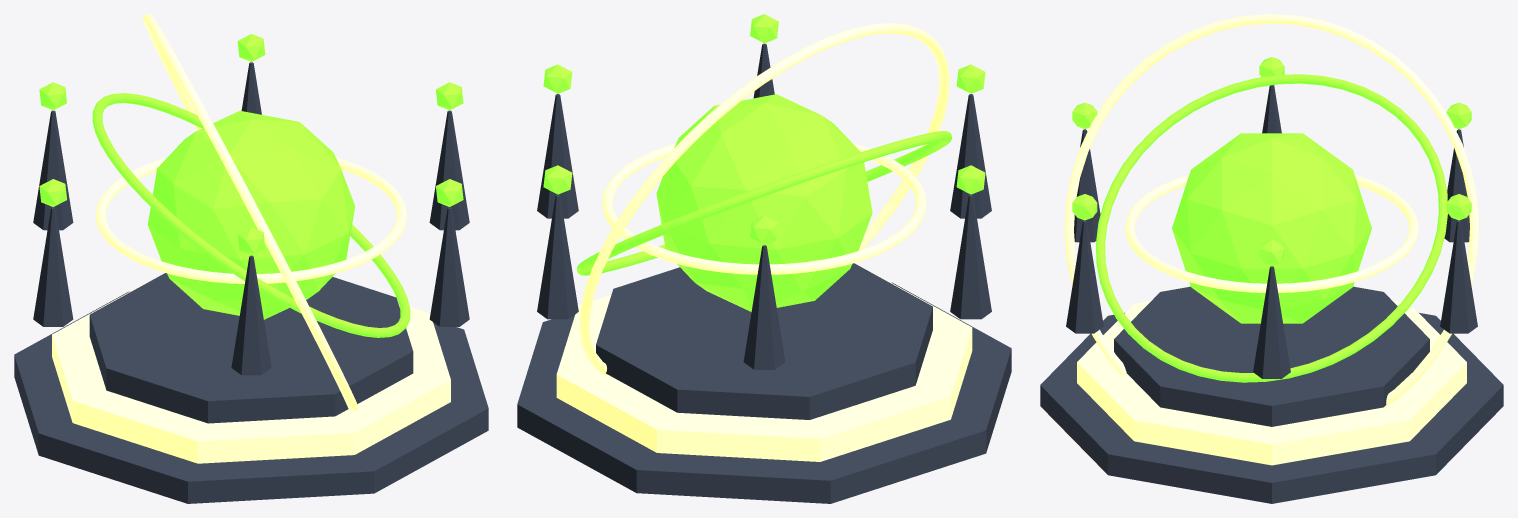
Rendered from gpu-blender-v46.glb.
3 views of the same model, side by side, from view 1: azimuth 30°, elevation 25°; view 2: azimuth 150°, elevation 25°; view 3: azimuth 270°, elevation 25° (orthographic). The views are drawn at different scales.
Visible parts, largest first — view 1: Cylinder.002, SovereignCore_cyber-turtle-studio, Cylinder, Cylinder.001, Torus.001, Torus.002, Torus, Cone.004, Cone.003, Cone.005, Cone, Cone.002 (+7 smaller); view 2: Cylinder.002, SovereignCore_cyber-turtle-studio, Cylinder, Cylinder.001, Torus.002, Torus.001, Torus, Cone.001, Cone.003, Cone.002, Cone, Cone.004 (+6 smaller); view 3: SovereignCore_cyber-turtle-studio, Cylinder.002, Cylinder, Cylinder.001, Torus.001, Torus.002, Torus, Cone.001, Cone.005, Cone, Cone.004, Cone.002 (+4 smaller).
Boxes of the visible parts, box(x1,y1,x2,y2) form: Cylinder.002: box(89, 273, 413, 423); SovereignCore_cyber-turtle-studio: box(147, 110, 355, 319); Cylinder: box(14, 291, 488, 503); Cylinder.001: box(52, 281, 450, 463); Torus.001: box(92, 93, 410, 337); Torus.002: box(143, 14, 358, 411); Torus: box(95, 158, 407, 283); Cone.004: box(231, 255, 271, 375); Cone.003: box(33, 207, 73, 326); Cone.005: box(429, 207, 469, 326); Cone: box(429, 110, 469, 230); Cone.002: box(33, 110, 73, 230); Cylinder.002: box(596, 263, 932, 419); SovereignCore_cyber-turtle-studio: box(656, 94, 872, 311); Cylinder: box(517, 282, 1011, 503); Cylinder.001: box(556, 272, 972, 461); Torus.002: box(579, 23, 949, 374); Torus.001: box(577, 131, 951, 275); Torus: box(602, 143, 926, 274); Cone.001: box(537, 195, 578, 319); Cone.003: box(950, 195, 991, 319); Cone.002: box(743, 245, 785, 369); Cone: box(537, 94, 578, 218); Cone.004: box(950, 94, 991, 218); SovereignCore_cyber-turtle-studio: box(1172, 133, 1371, 323); Cylinder.002: box(1114, 286, 1429, 426); Cylinder: box(1040, 313, 1503, 503); Cylinder.001: box(1077, 301, 1466, 465); Torus.001: box(1096, 74, 1447, 382); Torus.002: box(1064, 14, 1479, 406); Torus: box(1125, 175, 1418, 292); Cone.001: box(1440, 220, 1477, 333); Cone.005: box(1066, 220, 1103, 333); Cone: box(1253, 266, 1290, 378); Cone.004: box(1074, 129, 1100, 242); Cone.002: box(1444, 129, 1469, 242).
Bounding box in the file's own units: 4.41 × 3.72 × 4.4.
